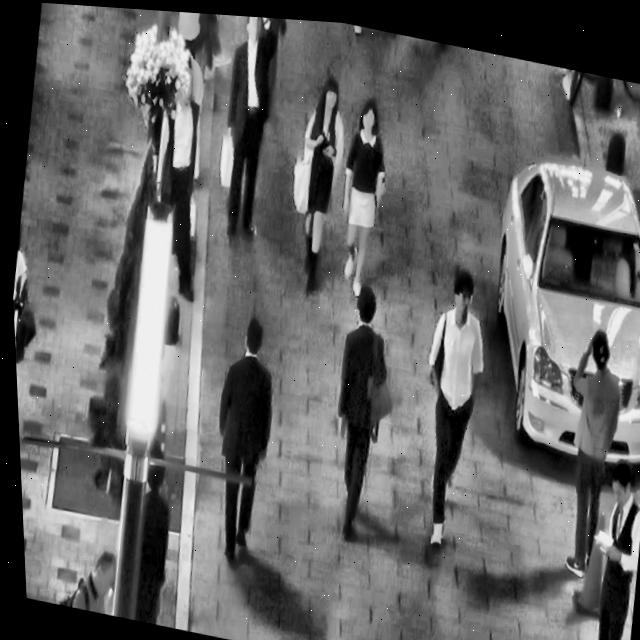light_vehicle: (459, 121, 640, 475)
